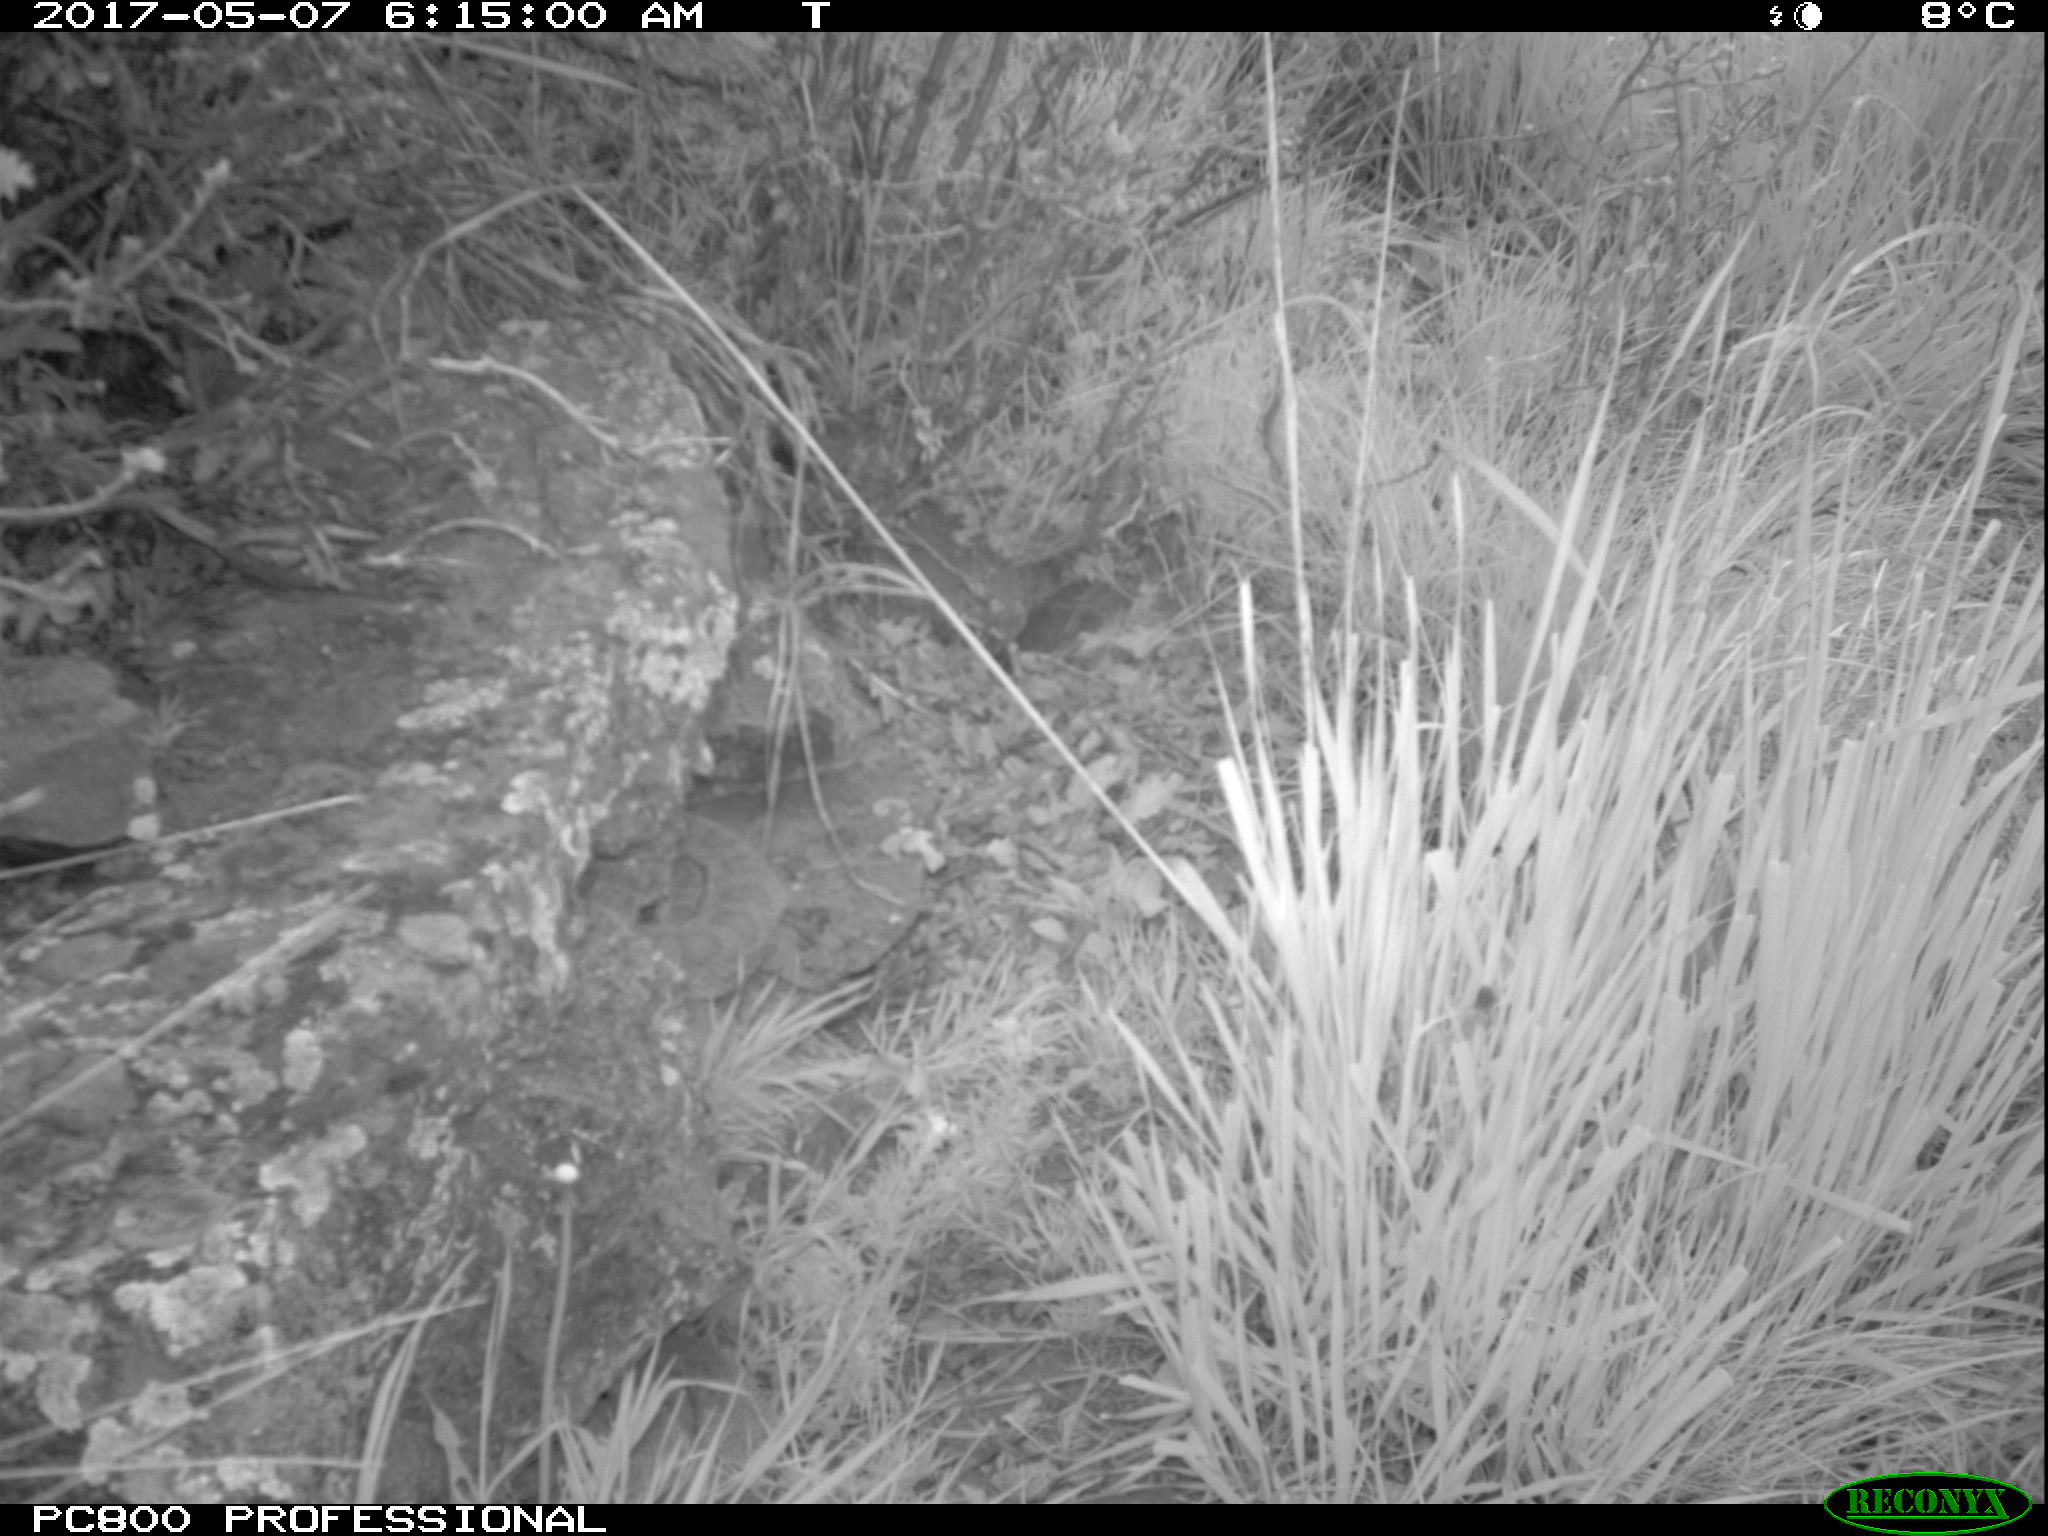snake: (676, 812, 922, 1008), (664, 1342, 776, 1475)
